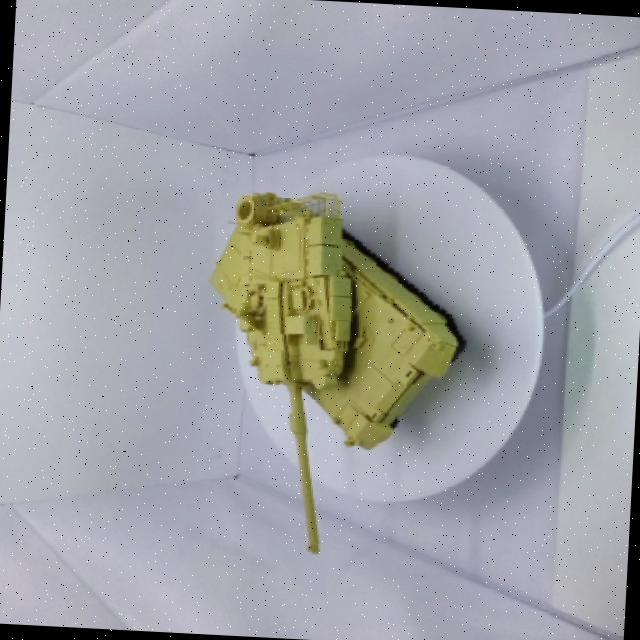korea tank: (166, 166, 498, 574)
